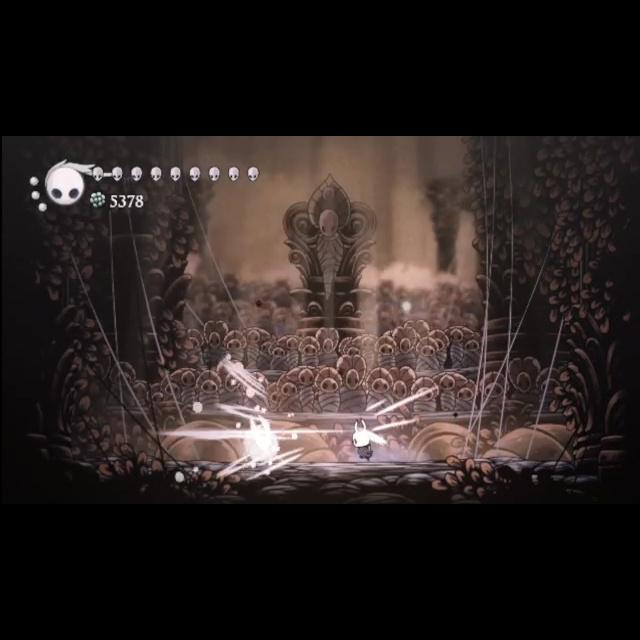EnemyDamaged: (238, 410, 302, 466)
Player: (347, 417, 379, 463)
